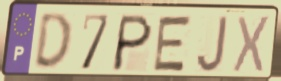7: (81, 13, 111, 73)
D: (32, 11, 74, 73)
E: (150, 14, 195, 74)
J: (195, 14, 230, 75)
P: (109, 12, 156, 74)
X: (230, 14, 272, 76)
